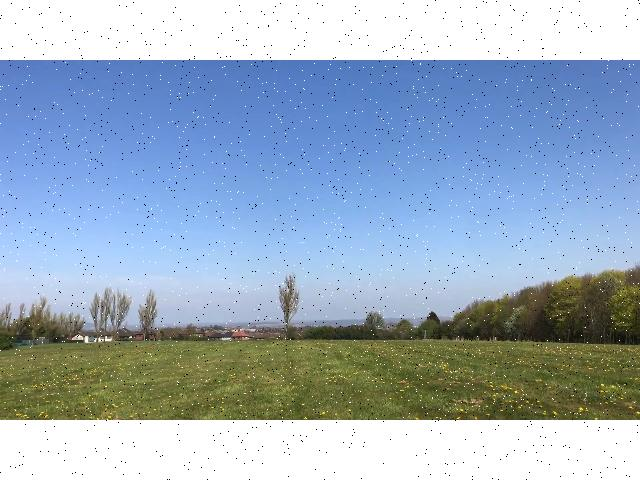Anti-Drone: (292, 238, 308, 254)
